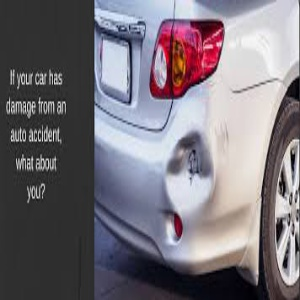bumper: (168, 197, 261, 291)
